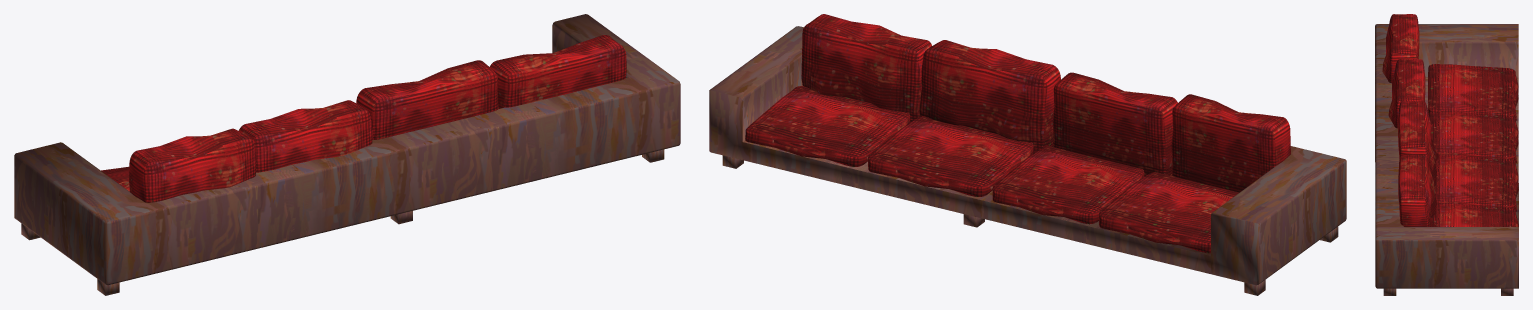
Rendered from big sofa.glb.
The picture shows the model from 3 angles, left to right: view 1: azimuth 30°, elevation 25°; view 2: azimuth 150°, elevation 25°; view 3: azimuth 270°, elevation 25°; orthographic projection. The views are drawn at different scales.
Parts seen in each view (by area): view 1: Cube.001, Cube.013, Cube.011, Cube.012, Cube.009; view 2: Cube.001, Cube.013, Cube.009, Cube.012, Cube.011, Cube.017, Cube.014, Cube.016, Cube.015; view 3: Cube.001, Cube.015, Cube.017, Cube.016, Cube.009, Cube.013, Cube.014, Cube.011, Cube.012.
Part boxes in pixels (box(x1,y1,x2,y2)): Cube.001: box(14, 14, 680, 295); Cube.013: box(356, 60, 498, 139); Cube.011: box(129, 128, 256, 202); Cube.012: box(238, 100, 372, 172); Cube.009: box(490, 35, 626, 108); Cube.001: box(709, 26, 1346, 295); Cube.013: box(919, 40, 1060, 153); Cube.009: box(801, 14, 931, 122); Cube.012: box(1052, 72, 1177, 176); Cube.011: box(1171, 94, 1290, 192); Cube.017: box(868, 116, 1033, 196); Cube.014: box(745, 86, 910, 166); Cube.016: box(992, 146, 1144, 224); Cube.015: box(1099, 172, 1239, 253); Cube.001: box(1375, 24, 1518, 295); Cube.015: box(1428, 64, 1518, 120); Cube.017: box(1434, 154, 1518, 211); Cube.016: box(1428, 111, 1518, 162); Cube.009: box(1398, 154, 1436, 226); Cube.013: box(1398, 101, 1438, 186); Cube.014: box(1431, 202, 1518, 226); Cube.011: box(1382, 14, 1419, 83); Cube.012: box(1388, 59, 1425, 128).
Size of the model in its own units: 5.25 by 1.06 by 1.47.
Materials: 2 (2 with a texture image).
